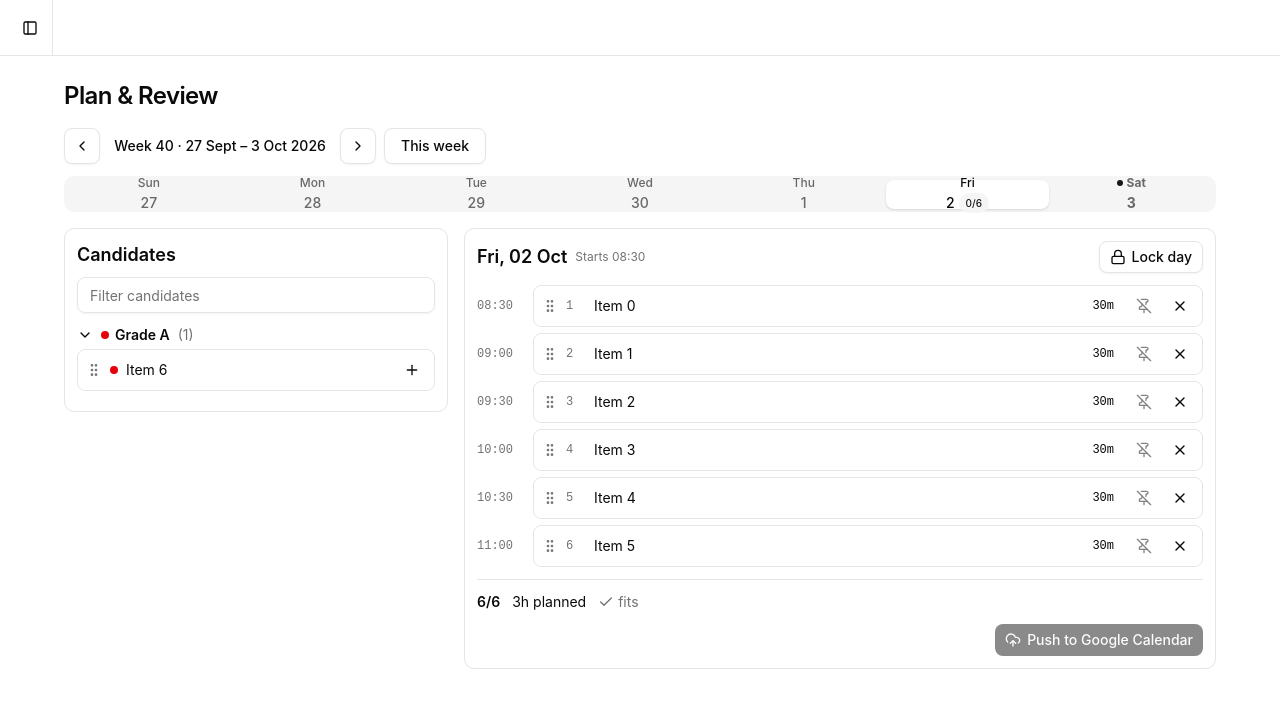
it: Plan & Review: building the day › refuses the 7th block under the hard cap with a message
Click the button named "Add “Item 6” to the plan" at (412, 370), box [398,356,426,384]
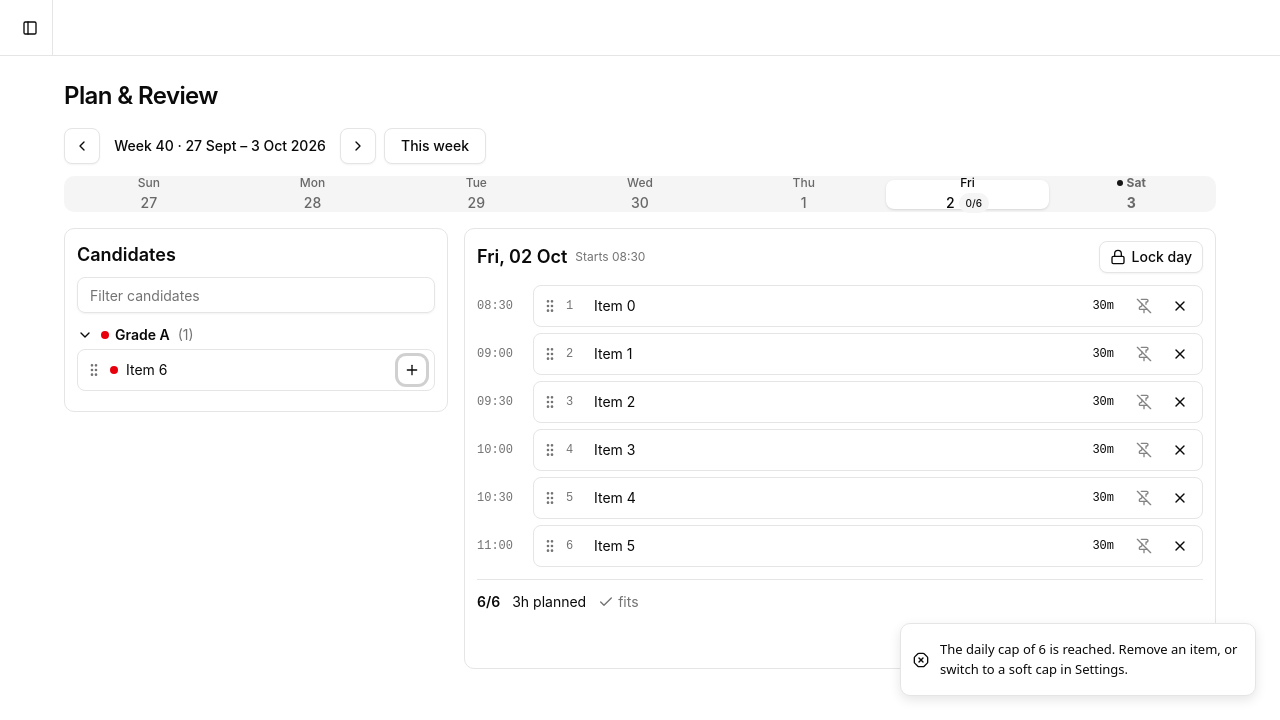
expect the text "daily cap of 6 is reached" is shown: met, box [940,640,1237,678]
